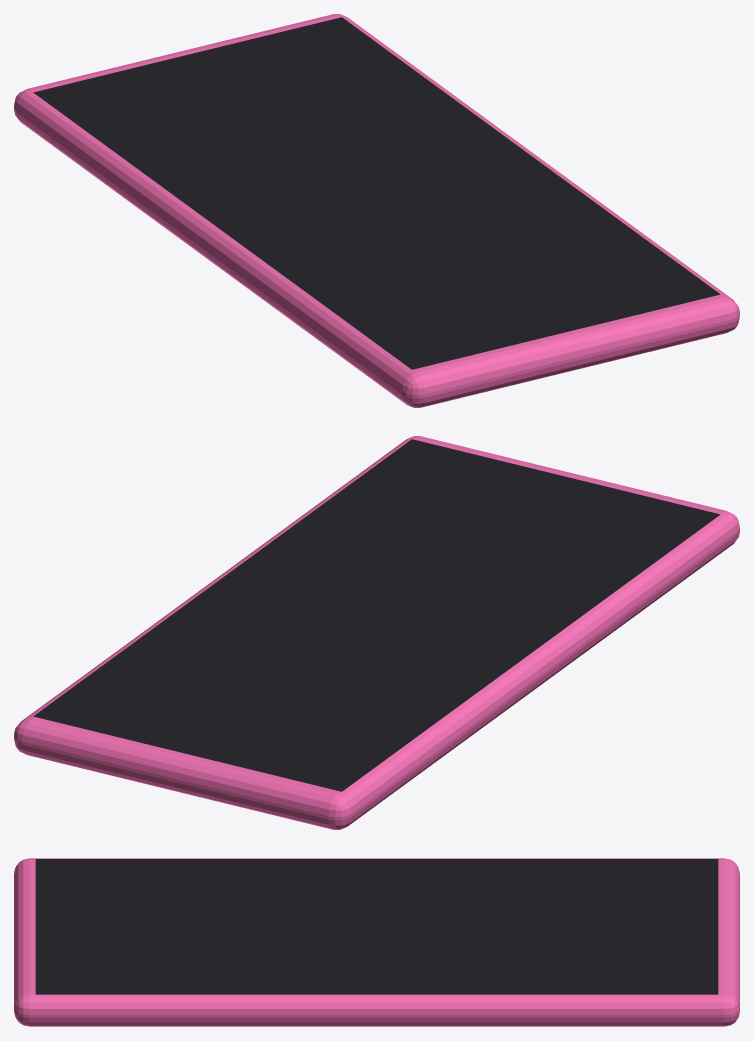
The model's file is infinix-hot-11s-2021.glb.
3 renders of one model, top to bottom at view 1: azimuth 30°, elevation 25°; view 2: azimuth 150°, elevation 25°; view 3: azimuth 270°, elevation 25°, orthographic. The views are drawn at different scales.
Visible parts, largest first — view 1: Phone_Screen, Phone_Body; view 2: Phone_Screen, Phone_Body; view 3: Phone_Screen, Phone_Body.
Boxes of the visible parts, <box> form: Phone_Screen: <box>33,17,720,369</box>; Phone_Body: <box>14,14,739,407</box>; Phone_Screen: <box>33,439,720,791</box>; Phone_Body: <box>14,436,739,829</box>; Phone_Screen: <box>35,859,718,994</box>; Phone_Body: <box>14,858,739,1026</box>.
Size of the model in its own units: 0.0773 by 0.0076 by 0.1608.
